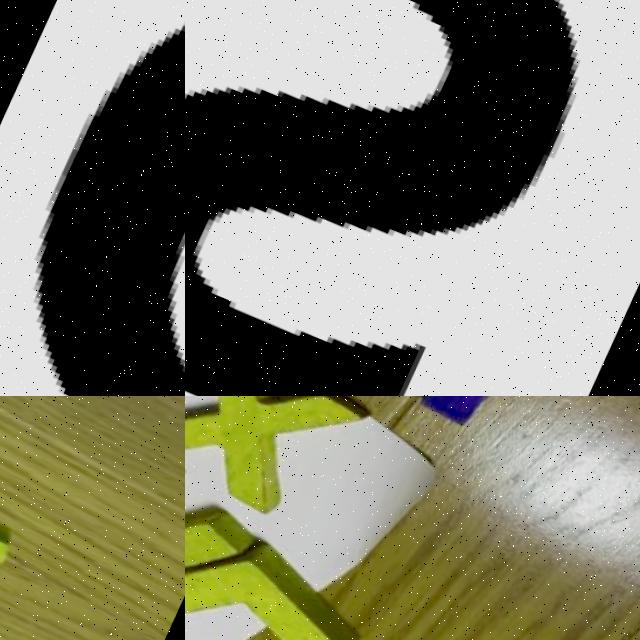C: (44, 19, 185, 396)
L: (185, 521, 368, 640), (0, 482, 37, 620)
R: (185, 443, 256, 626)
S: (185, 0, 640, 396)
X: (185, 396, 383, 523)
